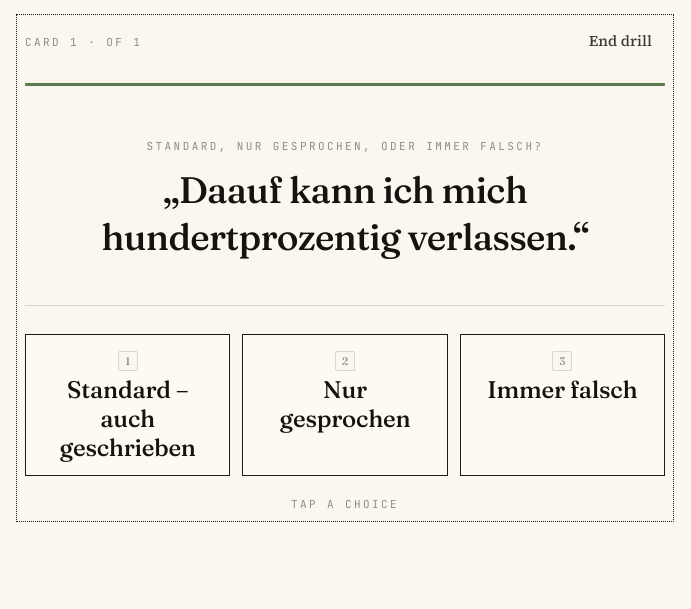
Test: RegisterRunner — smoke tests › for a "wrong" item, strikes through the phrase and shows the corrected form
The width and height of the screenshot is (691, 609).
Step 1. Click the button with class "choice" showing "1 Standard – auch geschrieben" → [128, 405], box [25,334,230,476]
(page scrolled)
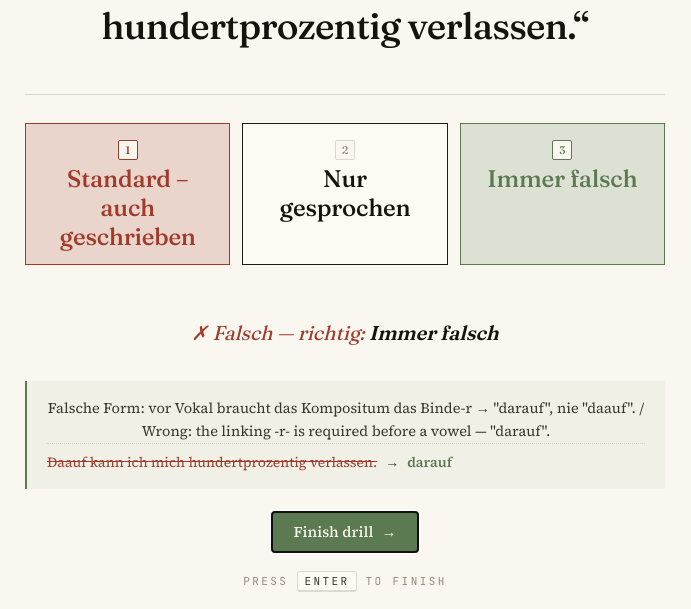
Result: the element with class "reveal" shows "darauf" at [407,452,452,472]
Result: the text "Daauf kann ich mich hundertprozentig verlassen." is shown at [47,452,377,473]
